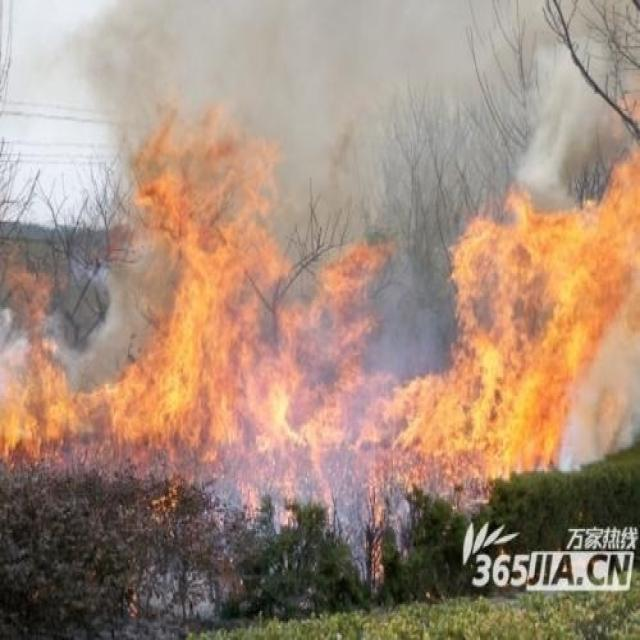Fire: (1, 104, 639, 495)
Smoke: (42, 1, 640, 582), (121, 566, 234, 640), (1, 306, 32, 404)
